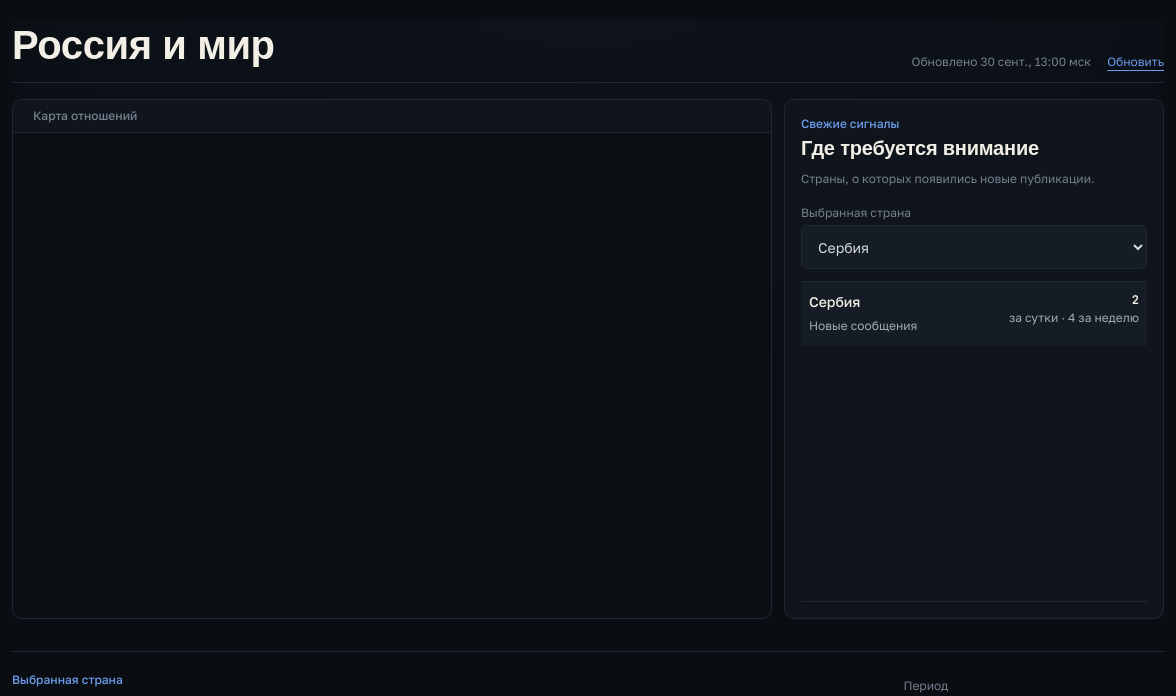
Test case: DecisionWorkspace › refreshes the currently selected country manually
This screenshot has width=1176, height=696.
Click the button "Обновить": (1136, 62) x1=1107 y1=54 x2=1164 y2=70
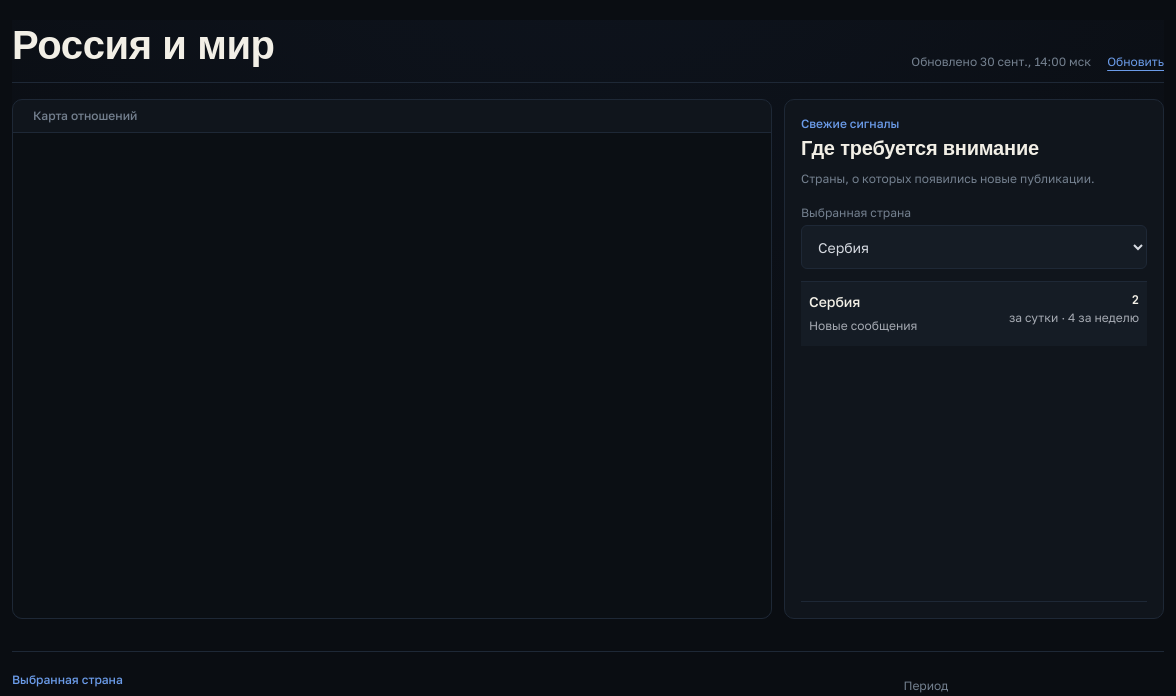
expect the text "Обновлено 30 сент., 14:00 мск" is shown: met, box x1=911 y1=54 x2=1091 y2=70
